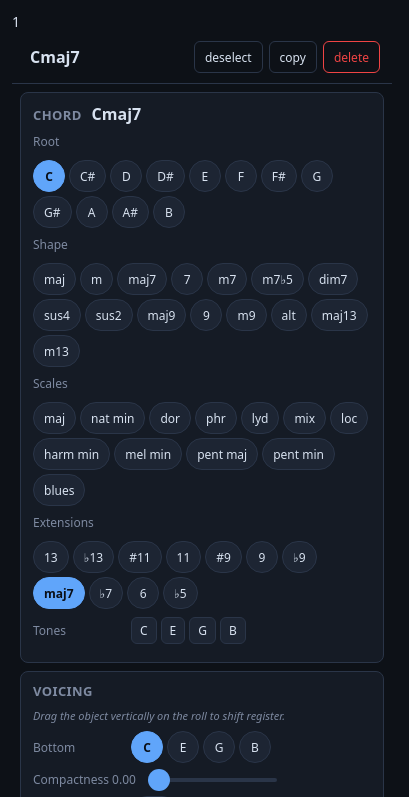
Test: Inspector › deletes the selected object via the Delete button
The image size is (409, 797).
Expected: the text with test id "object-count" reads "1", [12,12,20,31]
Click the button with aria-label "delete selected object". click: (351, 57)
box: [323,41,380,73]
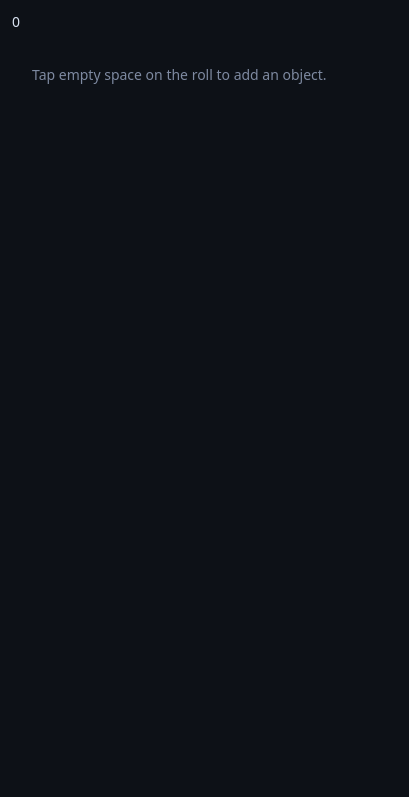
Result: the text with test id "object-count" reads "0" at [12,12,20,31]
